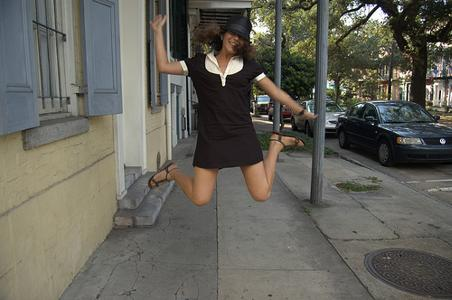person: (148, 10, 317, 205)
